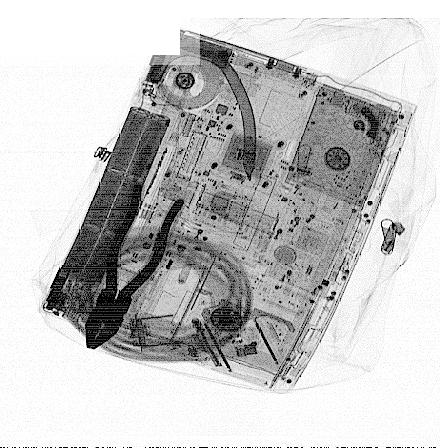Pliers: (84, 182, 189, 351)
